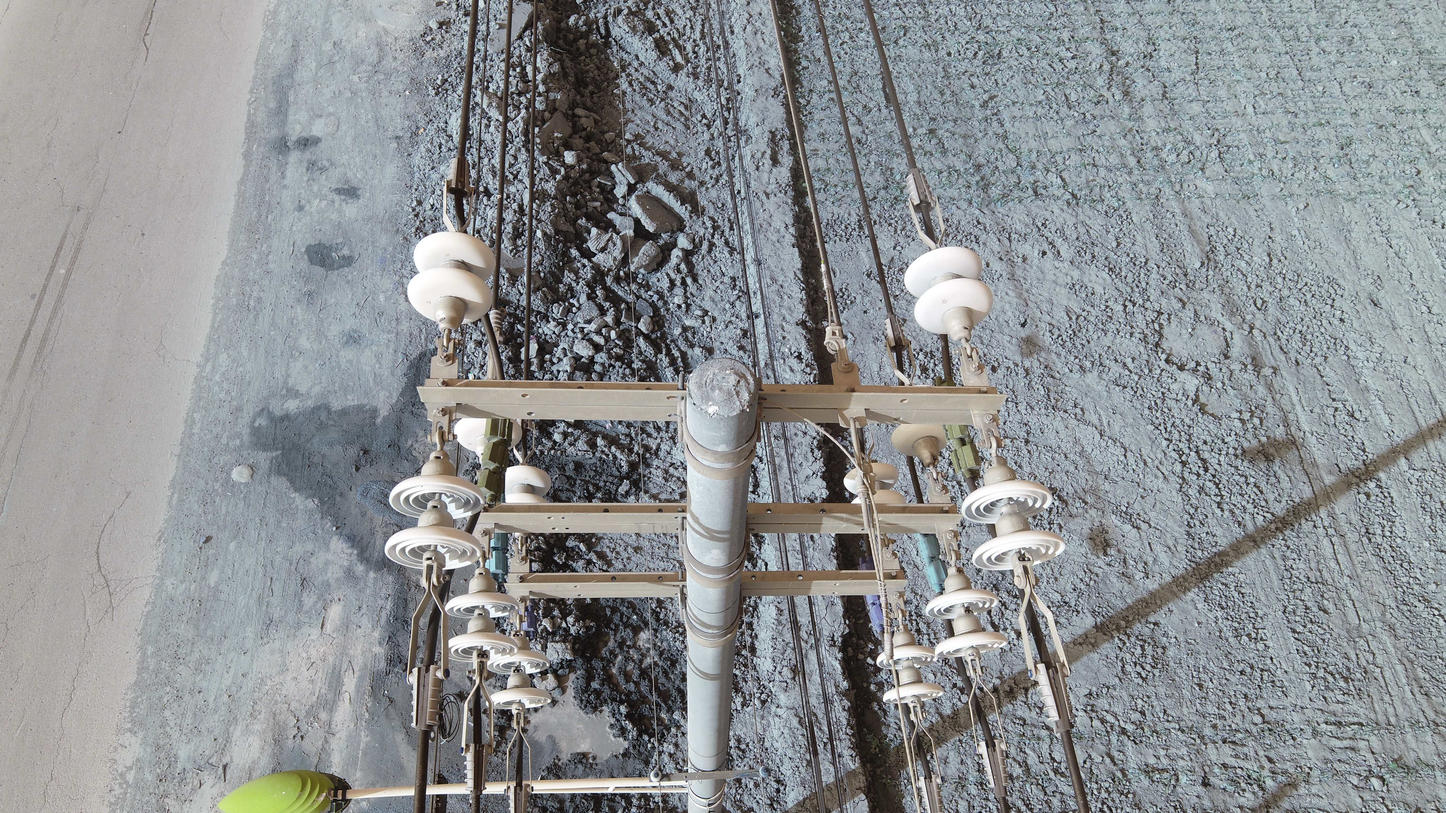severe_soiling_no_discharge_whole: (758, 765, 772, 778)
